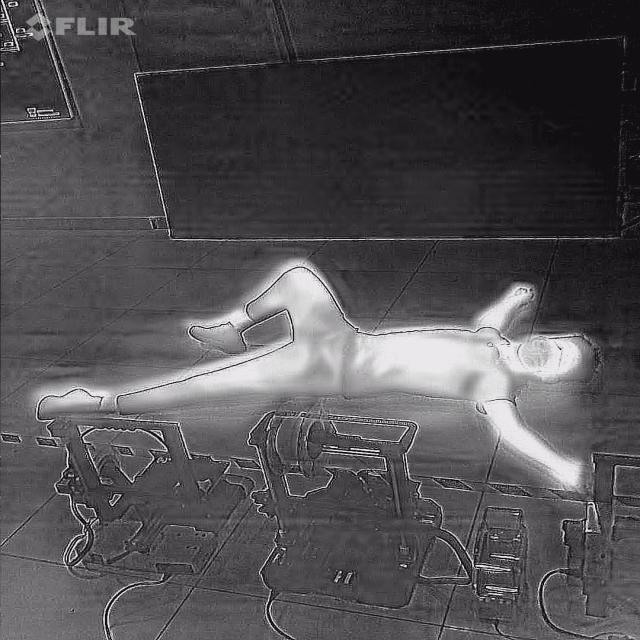Victim: (27, 260, 607, 498)
